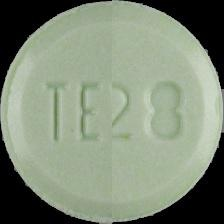0093-0928: (0, 0, 224, 224)
